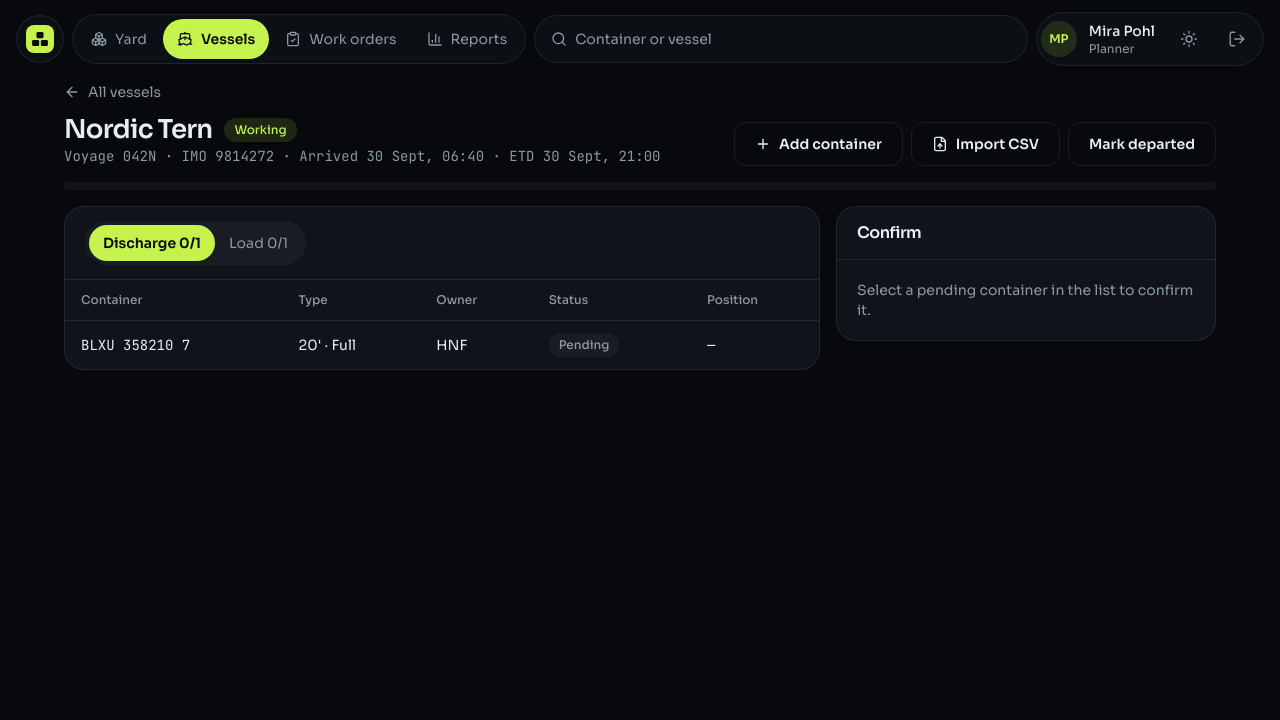
Test: vessels › discharges to a suggested slot and explains pending relocations on load
Click the text "BLXU 358210 7": (136, 345) [81,336,190,354]
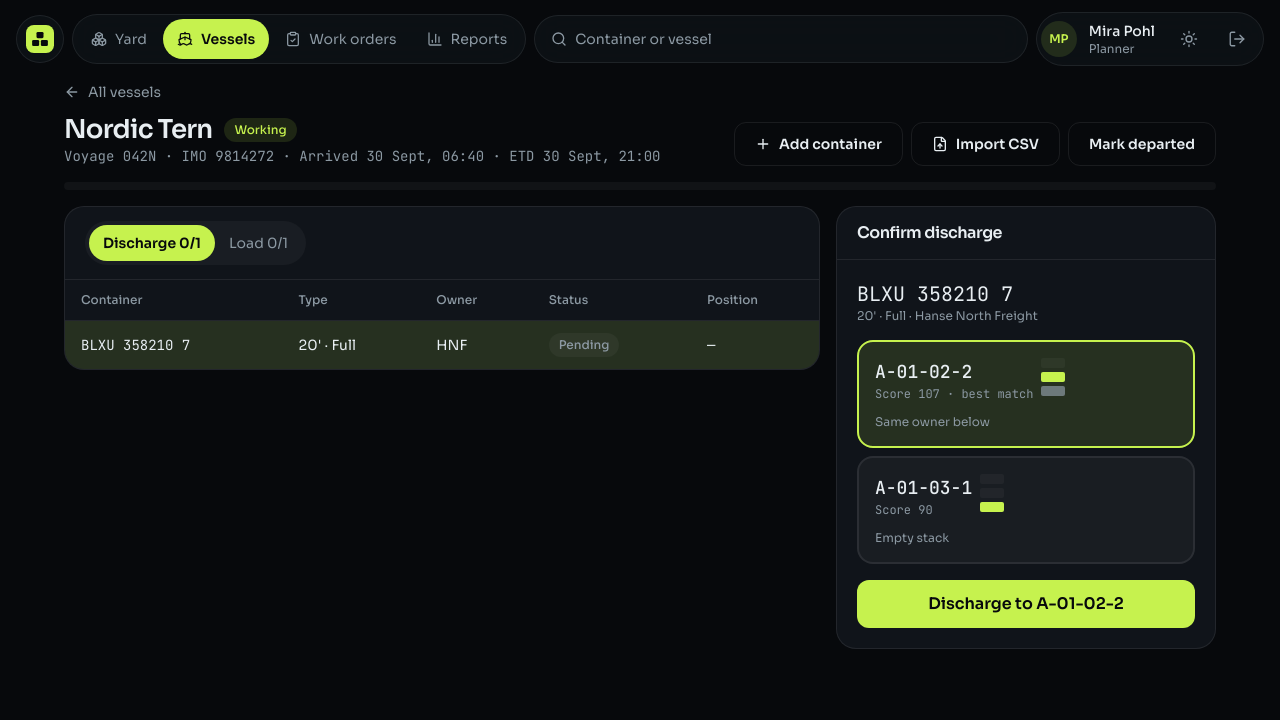
Click the button "Discharge to A-01-02-2": (1026, 604) [857,580,1195,628]
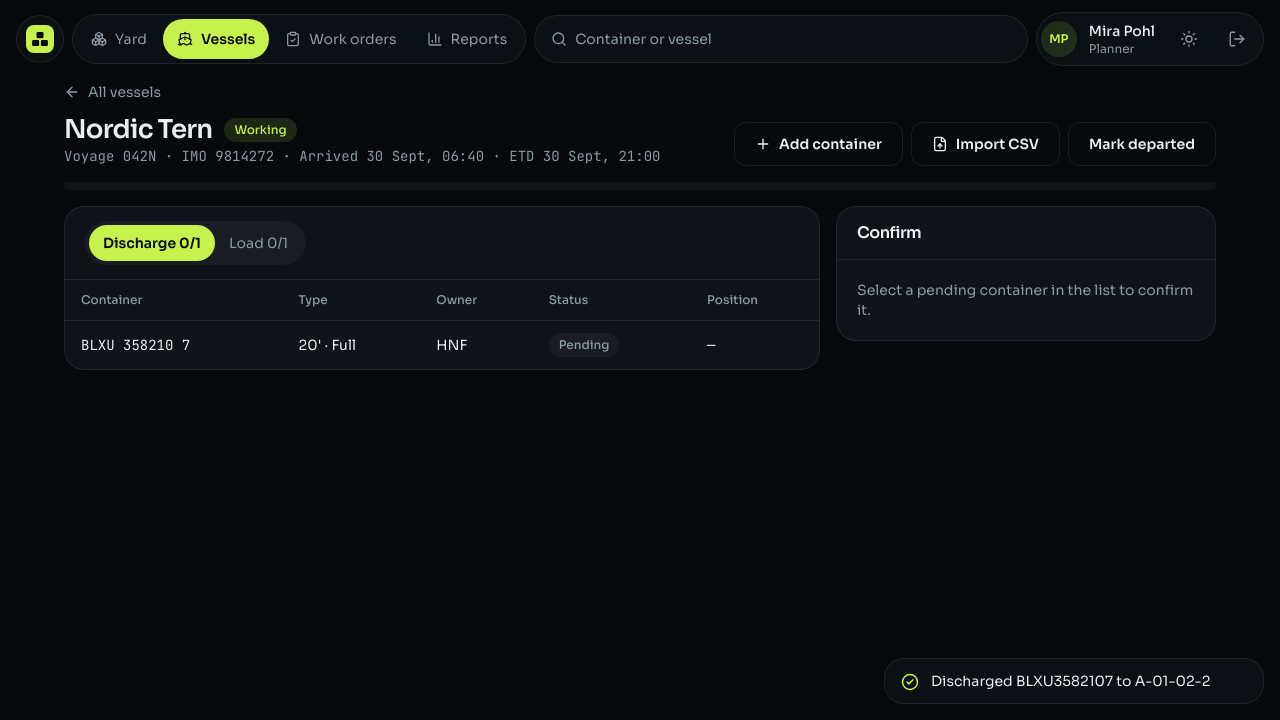
Expected: the text "Discharged BLXU3582107 to A-01-02-2" is shown, [931,671,1210,691]
Click the tab "Load 0/1": (259, 243) [215,225,302,261]
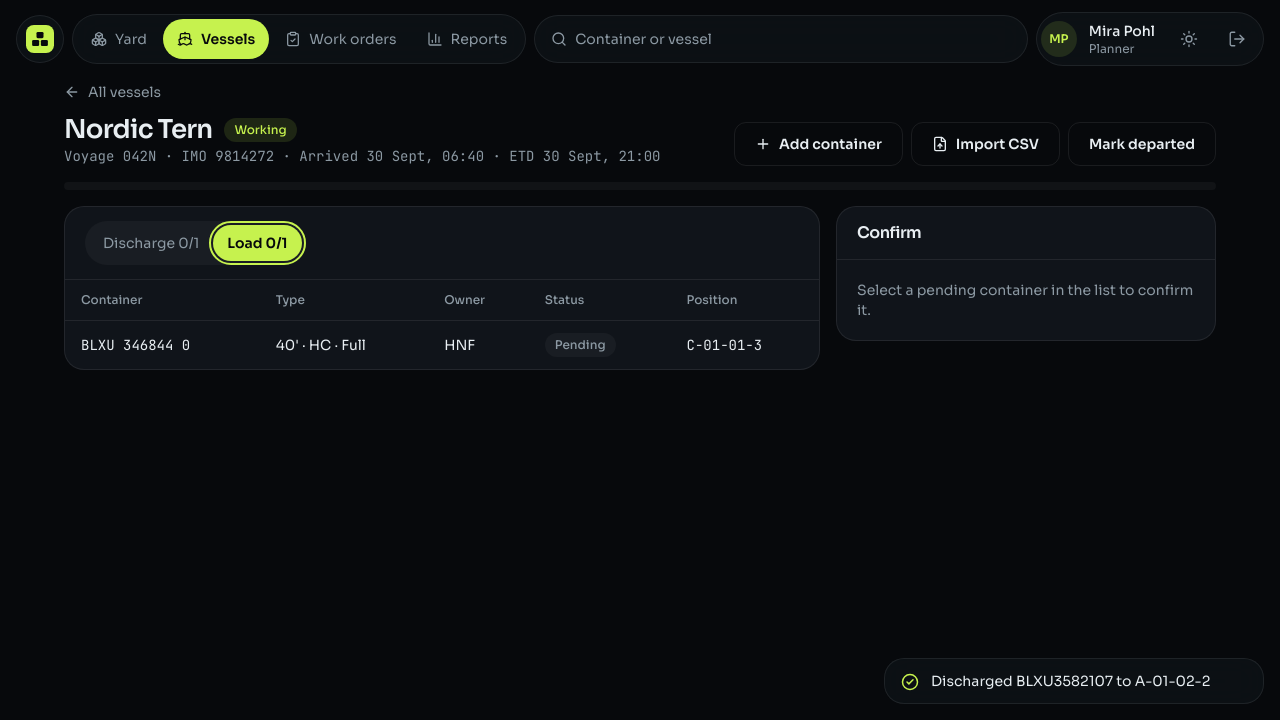
Click the text "BLXU 346844 0": (136, 345) [81,336,190,354]
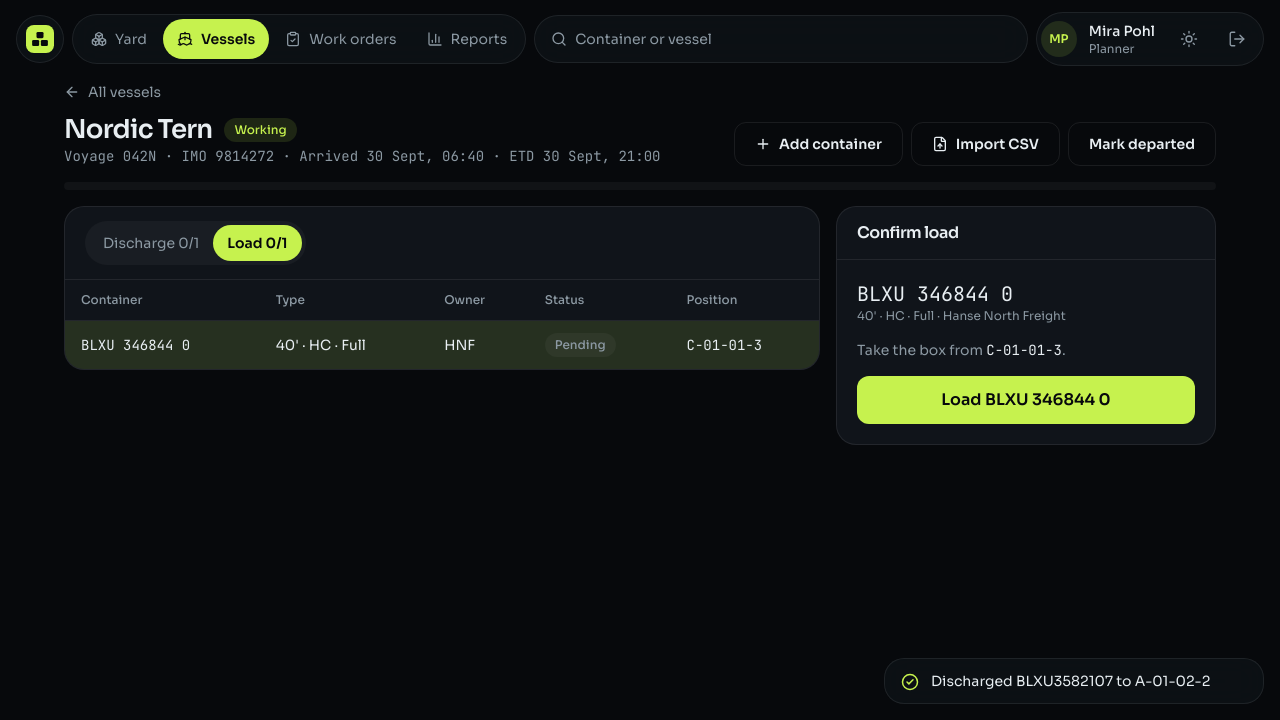
Click the button "Load BLXU 346844 0": (1026, 400) [857,376,1195,424]
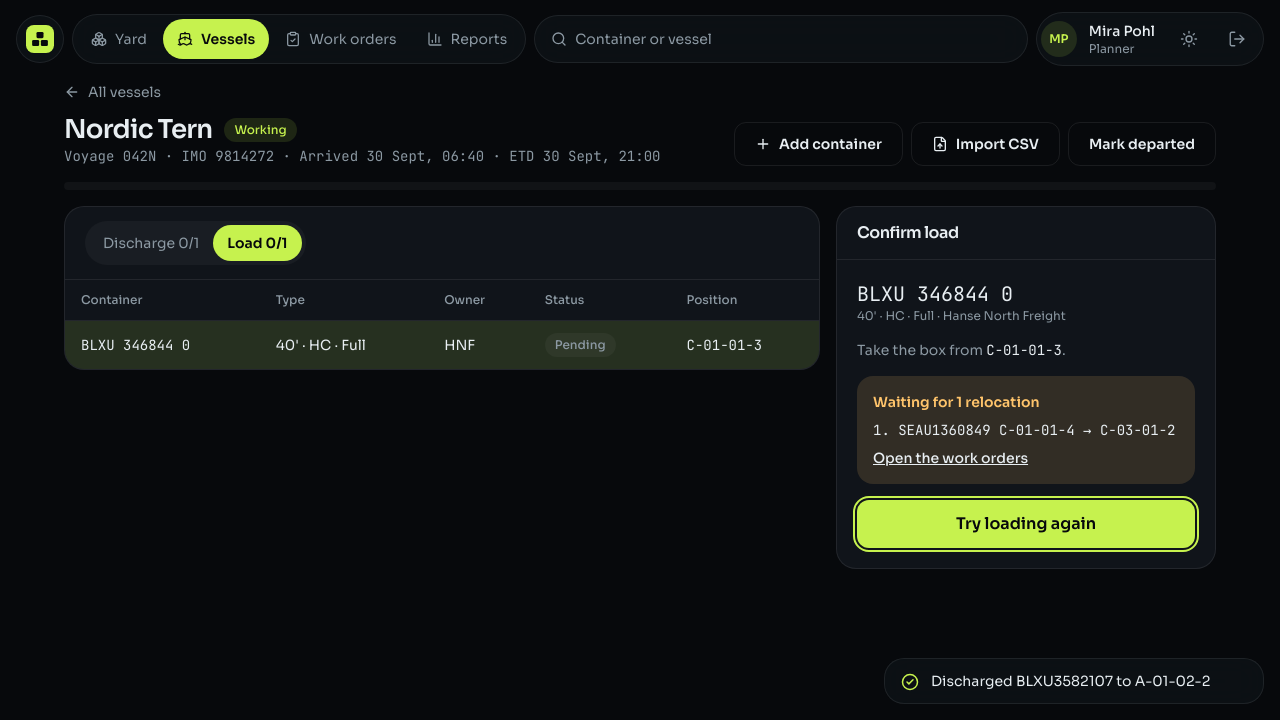
Expected: the message shows "Waiting for 1 relocation", [873,393,1040,411]
Expected: the message shows "SEAU1360849 C-01-01-4 → C-03-01-2", [857,376,1195,484]
